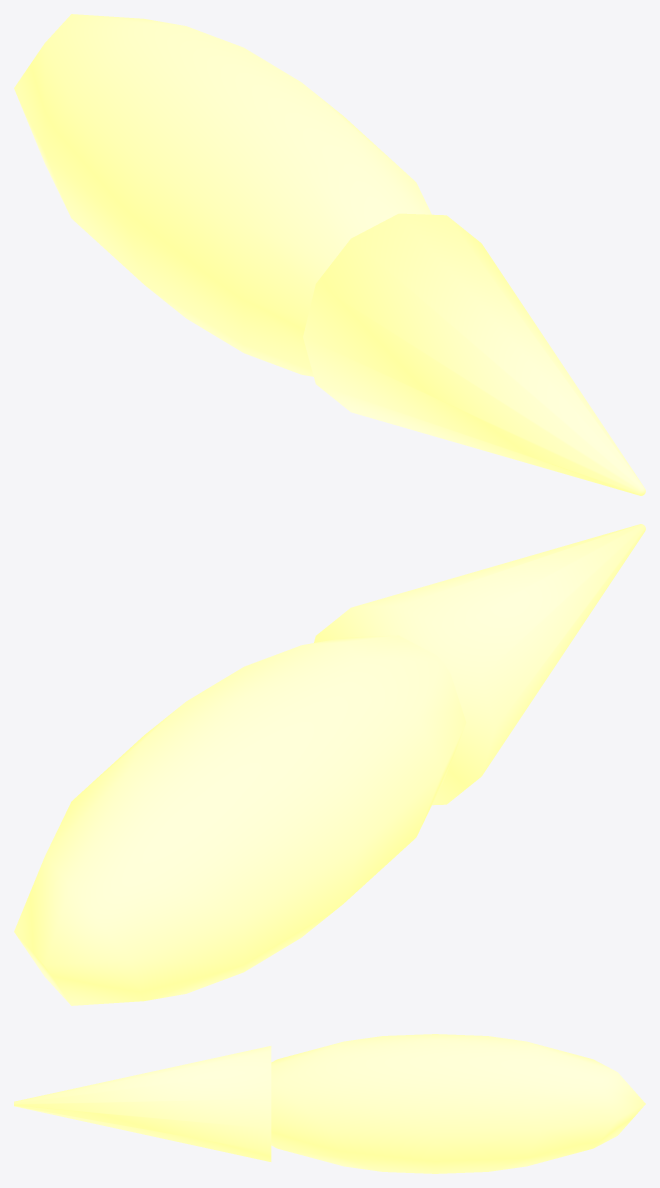
Rendered from Bolt.fbx.
3 views of the same model, one above another, from view 1: azimuth 30°, elevation 25°; view 2: azimuth 150°, elevation 25°; view 3: azimuth 270°, elevation 25° (orthographic). The views are drawn at different scales.
Parts seen in each view (by area): view 1: Emit_Sheath0, Emit_Tail0; view 2: Emit_Sheath0, Emit_Tail0; view 3: Emit_Sheath0, Emit_Tail0.
Part boxes in pixels (x1,y1,x2,y2): Emit_Sheath0: (14,14,431,376); Emit_Tail0: (303,213,645,495); Emit_Sheath0: (14,635,466,1005); Emit_Tail0: (314,524,645,805); Emit_Sheath0: (271,1034,645,1173); Emit_Tail0: (14,1046,271,1161).
Size of the model in its own units: 0.12 by 0.54 by 0.12.
